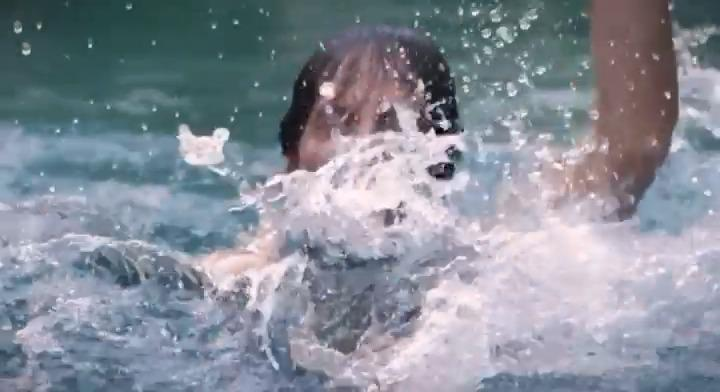Drowning: (48, 3, 699, 328)
